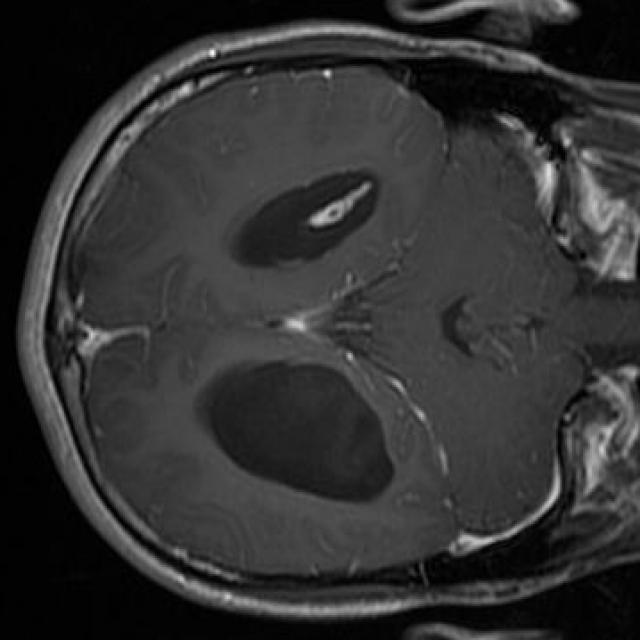glioma: (193, 360, 396, 501)
